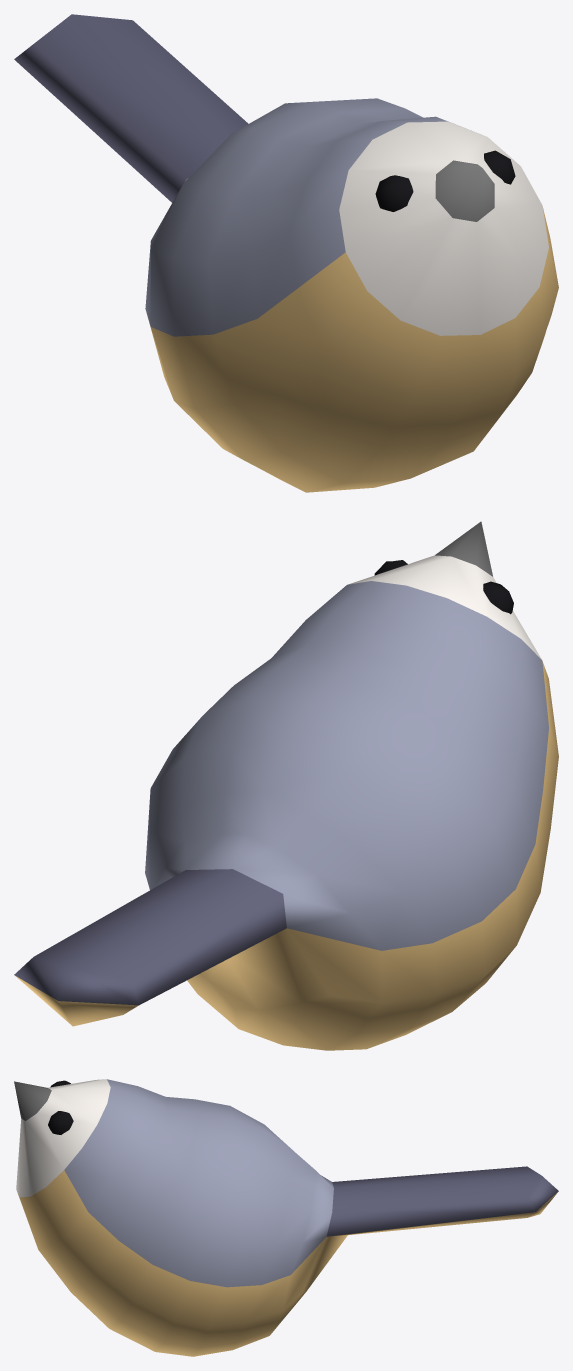
Rendered from Blue_Tit.fbx.
3 views of the same model, one above another, from view 1: azimuth 30°, elevation 25°; view 2: azimuth 150°, elevation 25°; view 3: azimuth 270°, elevation 25° (orthographic). The views are drawn at different scales.
Parts seen in each view (by area): view 1: Blue_Tit; view 2: Blue_Tit; view 3: Blue_Tit.
Boxes of the visible parts, left/top/right/bottom form: Blue_Tit: left=14, top=14, right=558, bottom=492; Blue_Tit: left=14, top=521, right=558, bottom=1050; Blue_Tit: left=14, top=1079, right=558, bottom=1356.
Bounding box in the file's own units: 16.13 × 18.39 × 34.52.
1 material, 1 textured.
